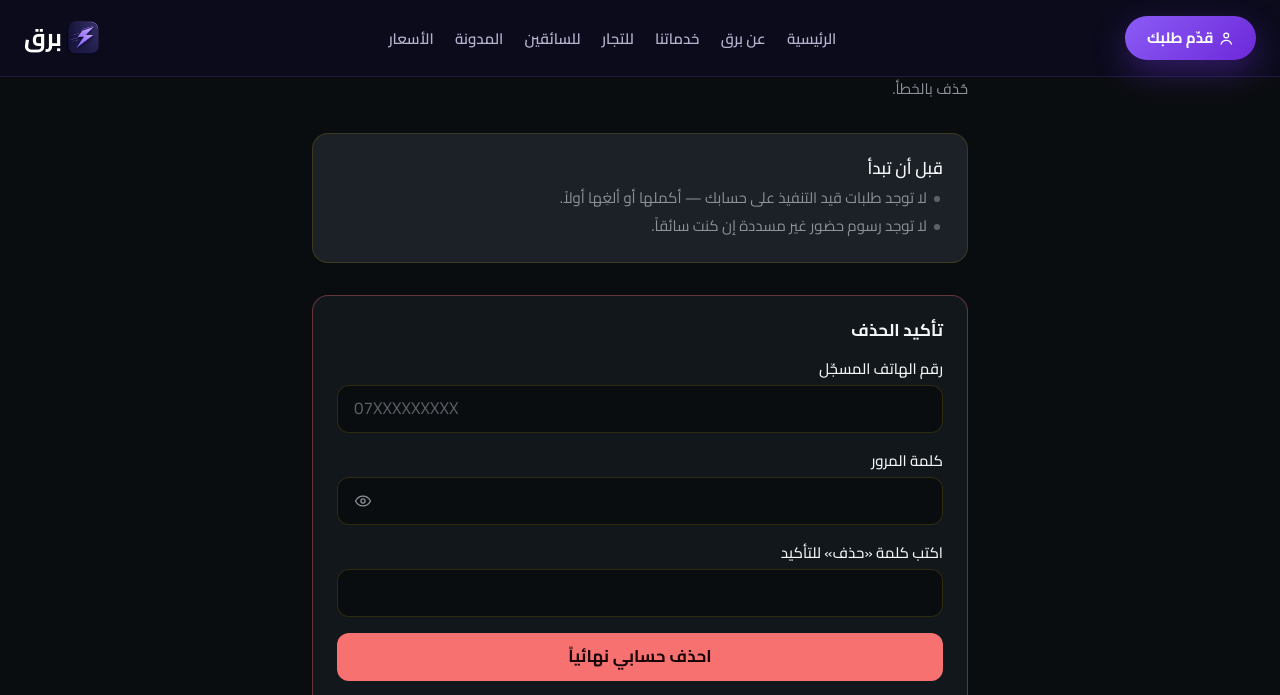
Test: the deletion page › reports bad credentials as such
The image size is (1280, 695).
(page scrolled)
Type "07712345678" into the field labelled "رقم الهاتف المسجّل" at [640, 409], box [337, 385, 943, 433]
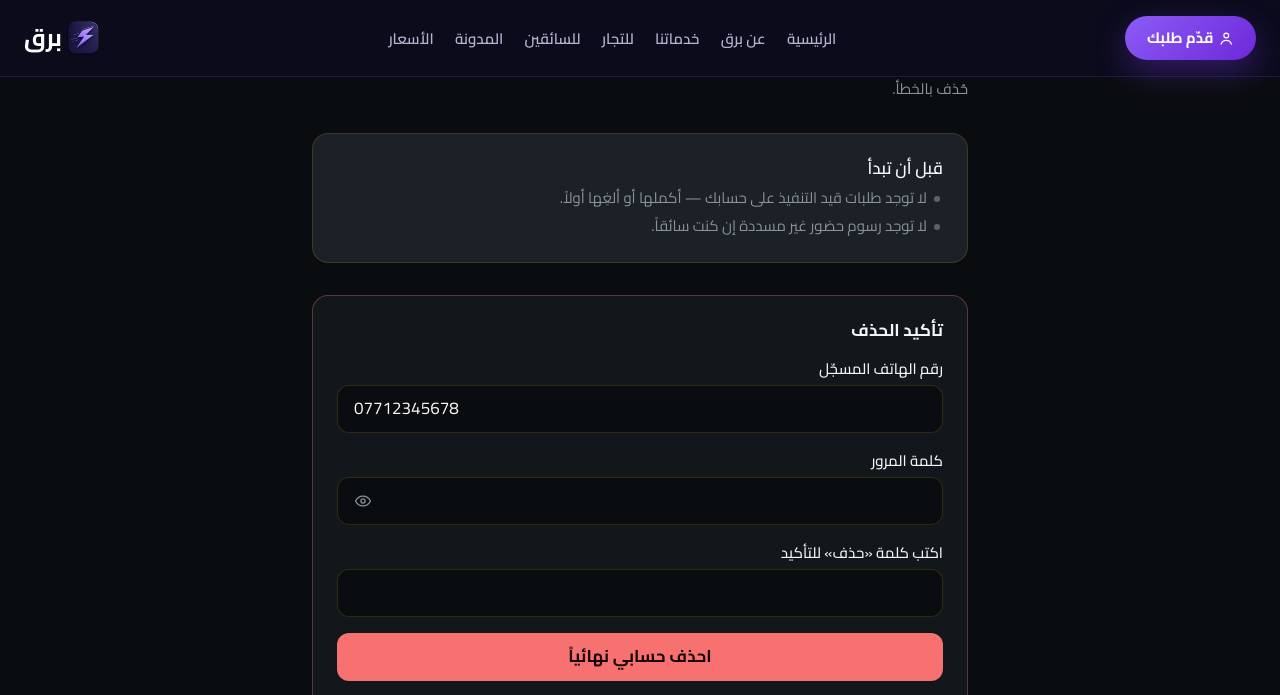
Type "secret123" into the password field labelled "كلمة المرور" at [640, 501], box [337, 477, 943, 525]
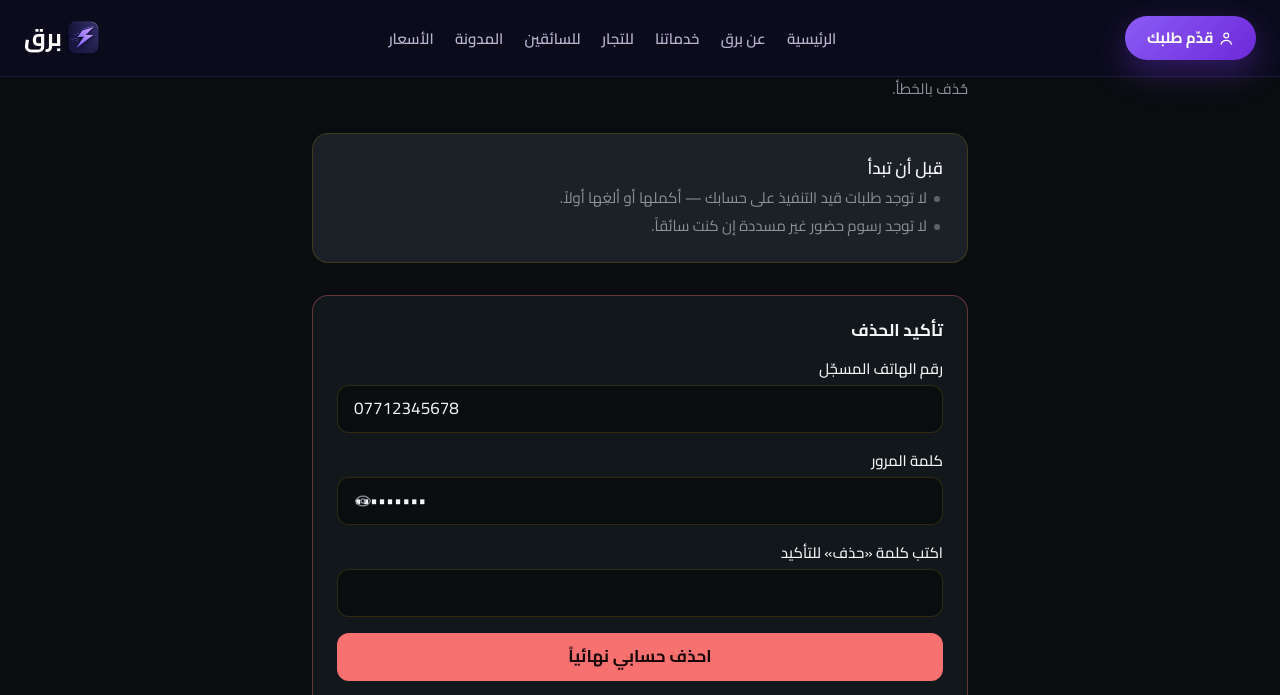
Type "حذف" into the field labelled "اكتب كلمة «حذف» للتأكيد" at [640, 593], box [337, 569, 943, 617]
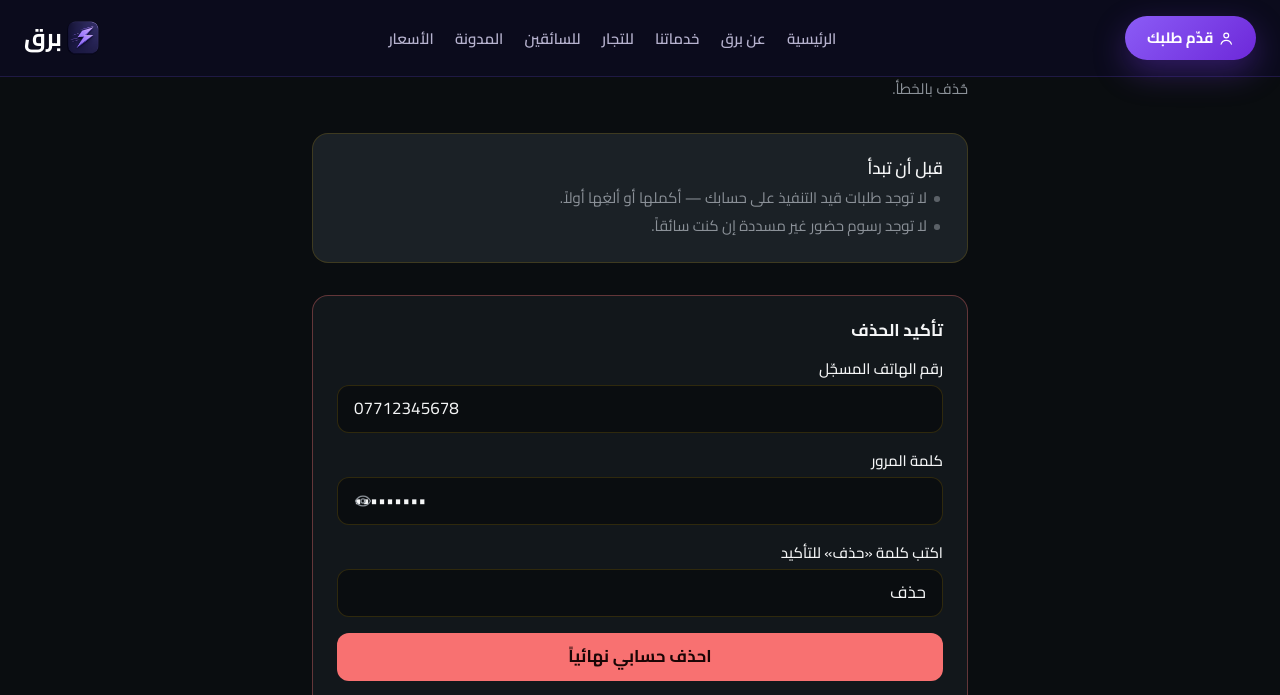
Click the button "احذف حسابي نهائياً" at [640, 657], box [337, 633, 943, 681]
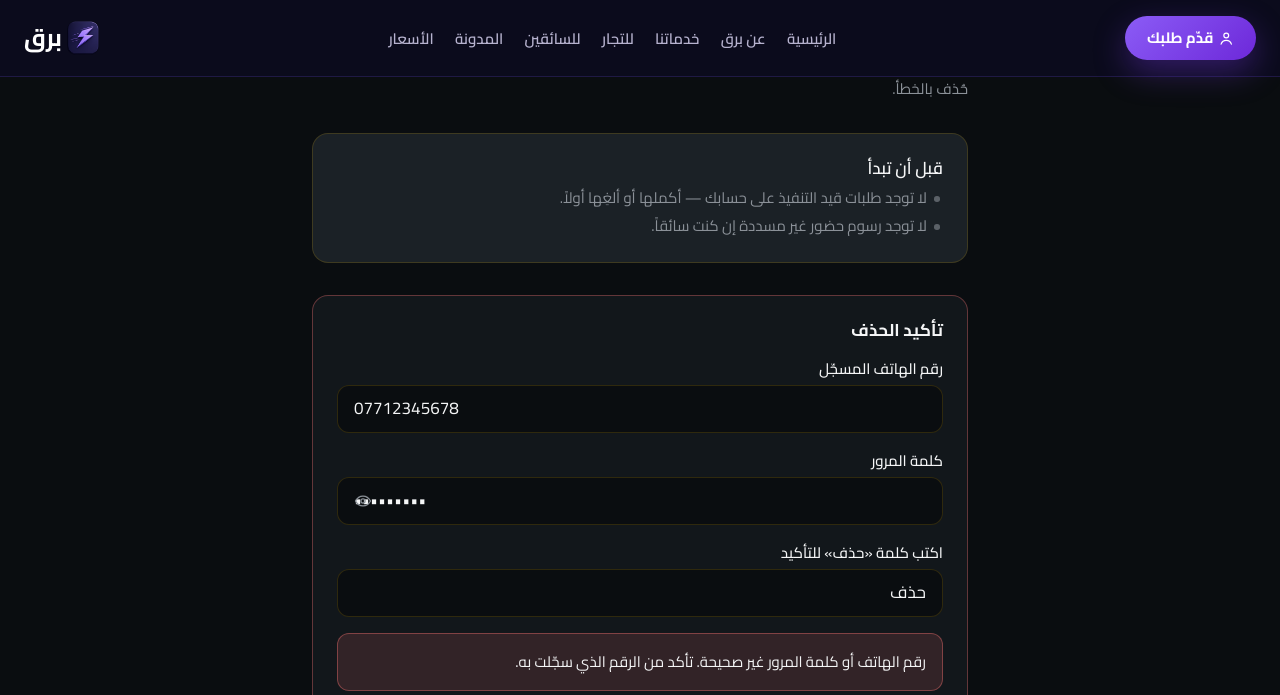
Expected: the text "رقم الهاتف أو كلمة المرور غير صحيحة" is shown, [515, 647, 926, 676]
